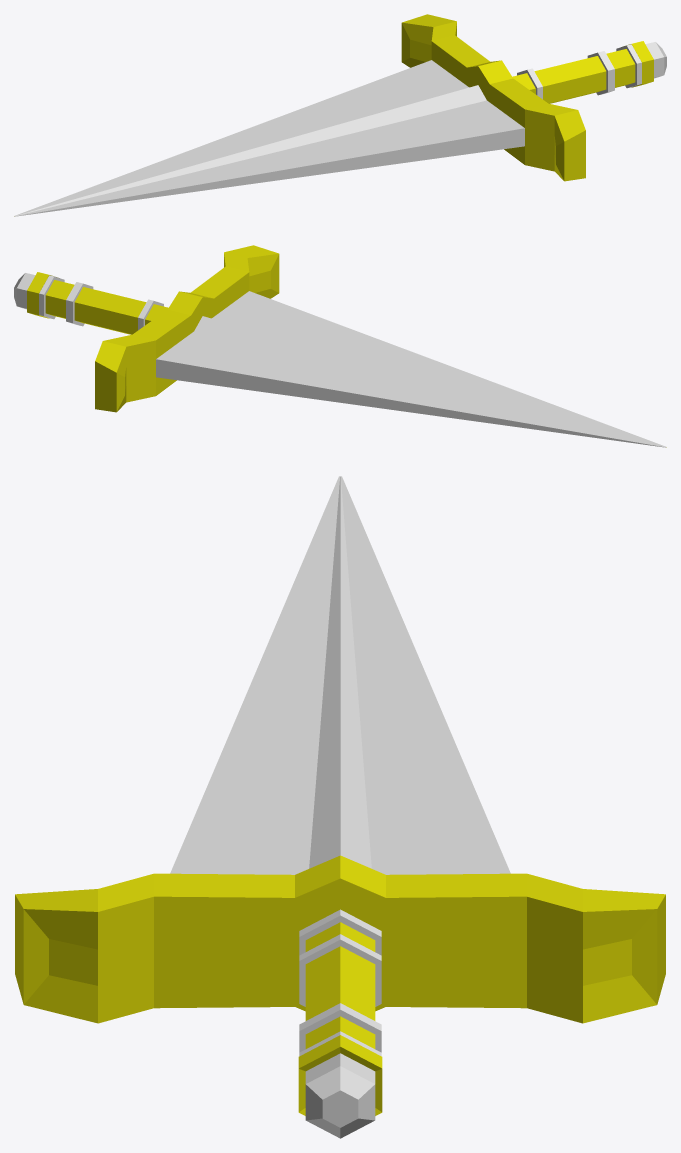
File: Dagger.fbx
3 renders of one model, top to bottom at view 1: azimuth 30°, elevation 25°; view 2: azimuth 150°, elevation 25°; view 3: azimuth 270°, elevation 25°, orthographic. The views are drawn at different scales.
Parts seen in each view (by area): view 1: Cylinder; view 2: Cylinder; view 3: Cylinder.
Part boxes in pixels (x1,y1,x2,y2): Cylinder: (14, 14, 666, 216); Cylinder: (14, 245, 666, 447); Cylinder: (15, 476, 665, 1138).
Bounding box in the file's own units: 909 × 99.13 × 396.
